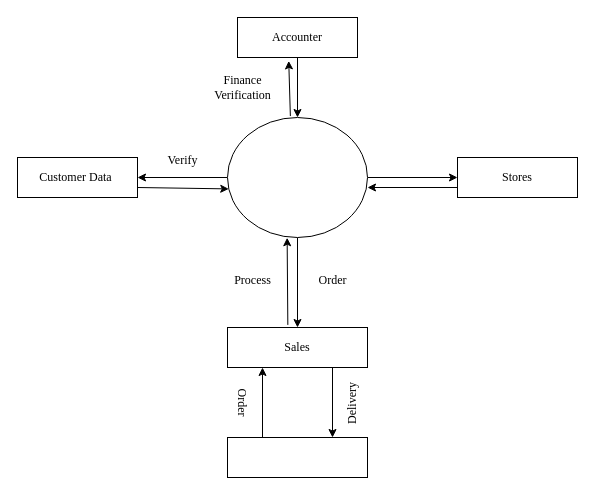
The diagram is 595 pixels wide and 495 high, and some of its shapes have lost their labels. The centre of each missing label's shape, as x and y in pixels:
Customers: the point at 297,457
Order Processing: the point at 297,177
